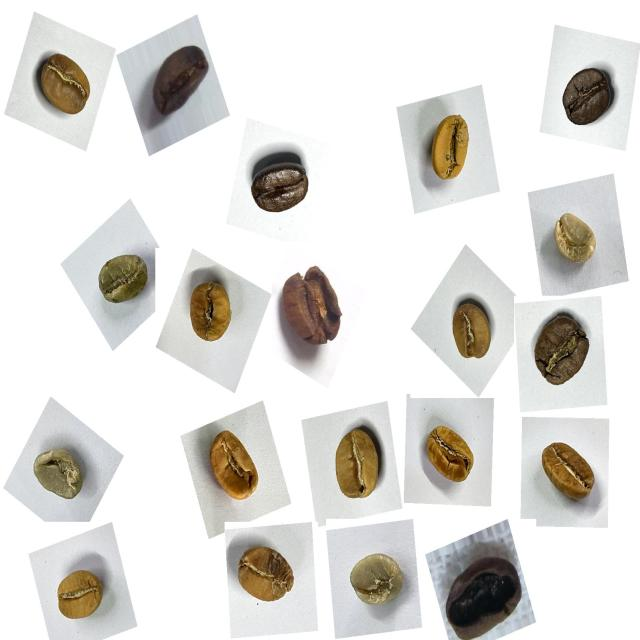bad: (438, 538, 530, 638), (275, 257, 355, 359), (141, 35, 213, 127)
dark: (244, 145, 321, 230)
green: (340, 542, 414, 624), (24, 437, 96, 513), (87, 242, 156, 318), (542, 204, 606, 279)
light: (194, 421, 268, 514), (320, 417, 391, 513), (418, 101, 486, 194), (231, 537, 307, 620), (532, 429, 605, 514), (29, 42, 102, 126), (417, 413, 487, 495), (178, 269, 243, 354), (45, 557, 112, 633), (441, 293, 503, 374)
medium: (522, 307, 600, 401), (551, 56, 623, 142)
